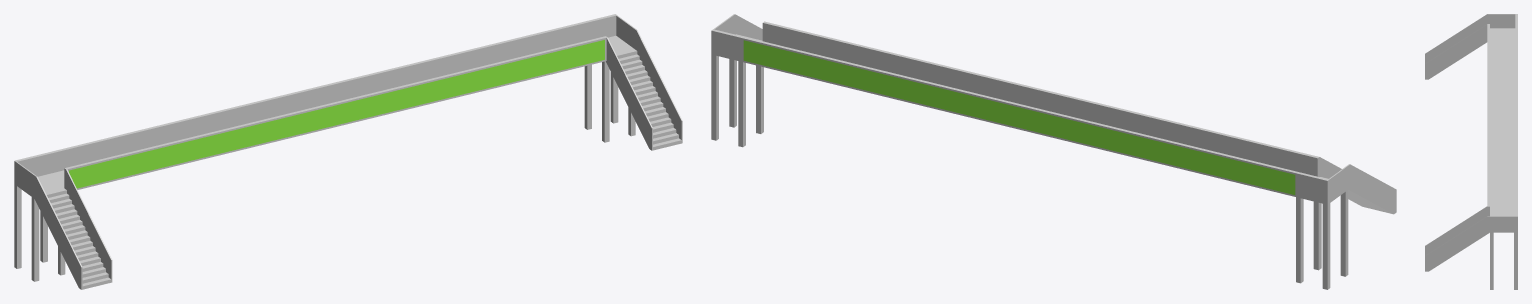
Rendered from Race_Bridge_3.fbx.
3 renders of one model, left to right at view 1: azimuth 30°, elevation 25°; view 2: azimuth 150°, elevation 25°; view 3: azimuth 270°, elevation 25°, orthographic. The views are drawn at different scales.
Visible parts, largest first — view 1: Race_Bridge_3; view 2: Race_Bridge_3; view 3: Race_Bridge_3.
Boxes of the visible parts, <box> form: Race_Bridge_3: <box>14,14,682,289</box>; Race_Bridge_3: <box>711,14,1396,289</box>; Race_Bridge_3: <box>1425,14,1517,289</box>.
Size of the model in its own units: 3774 by 638 by 732.
